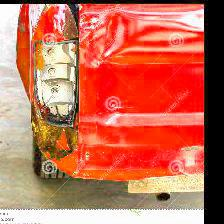tail_lamp: (22, 6, 85, 175)
